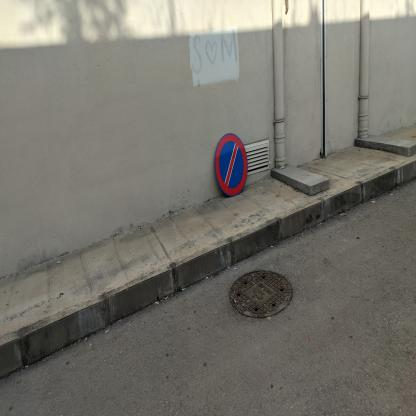No Waiting: (216, 133, 250, 198)
